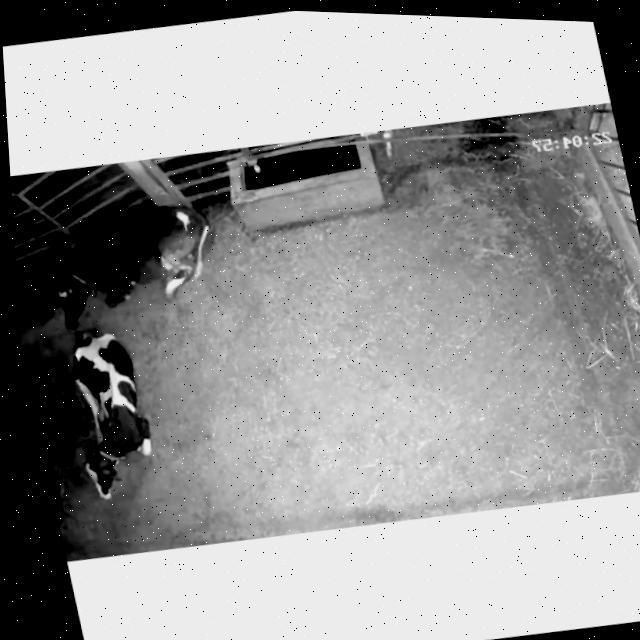lay: (17, 185, 239, 340), (45, 316, 177, 513)
